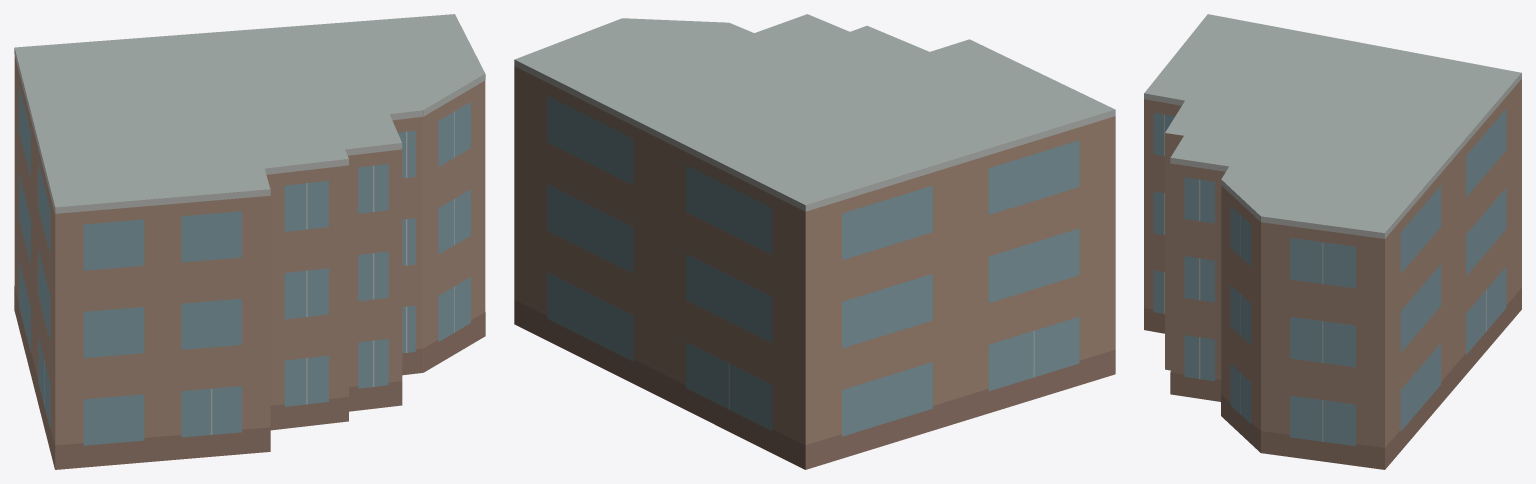
File: survey-upis-32528358.glb
3 views of the same model, side by side, from view 1: azimuth 30°, elevation 25°; view 2: azimuth 150°, elevation 25°; view 3: azimuth 270°, elevation 25° (orthographic). The views are drawn at different scales.
Parts seen in each view (by area): view 1: survey-upis-32528358.tmp; view 2: survey-upis-32528358.tmp; view 3: survey-upis-32528358.tmp.
Part boxes in pixels (x1,y1,x2,y2): survey-upis-32528358.tmp: [14, 14, 485, 469]; survey-upis-32528358.tmp: [514, 14, 1115, 469]; survey-upis-32528358.tmp: [1144, 14, 1521, 469].
Bounding box in the file's own units: 19.67 × 9.9 × 14.33.
